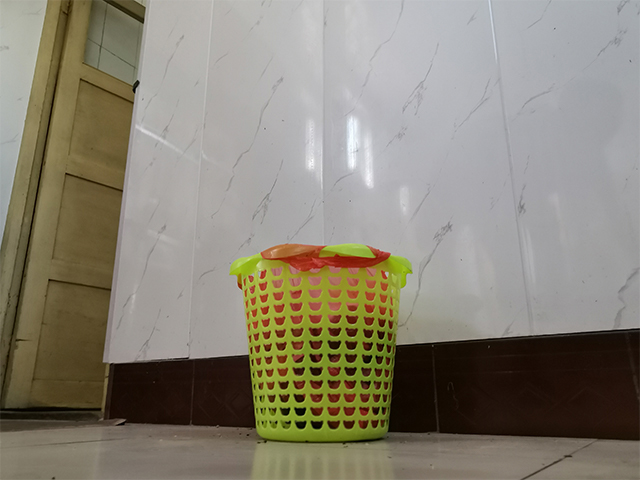trashcan: (225, 242, 416, 444)
